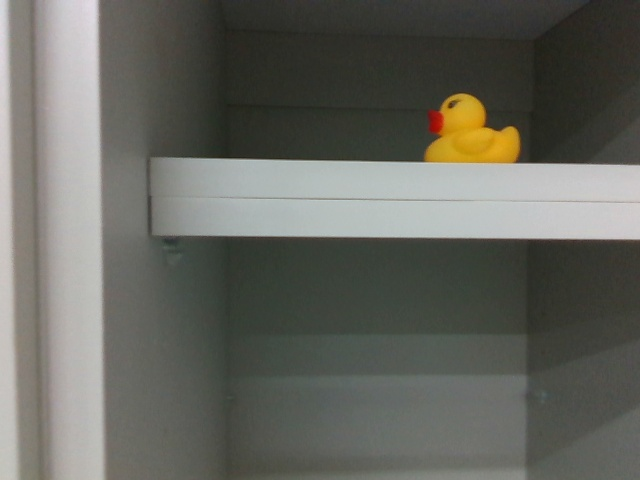duck: (419, 91, 522, 166)
